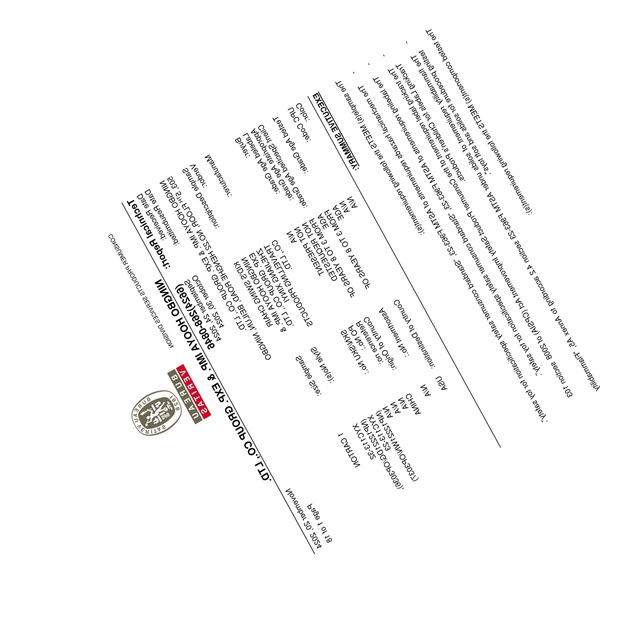bureau_veritas: (129, 362, 215, 442)
